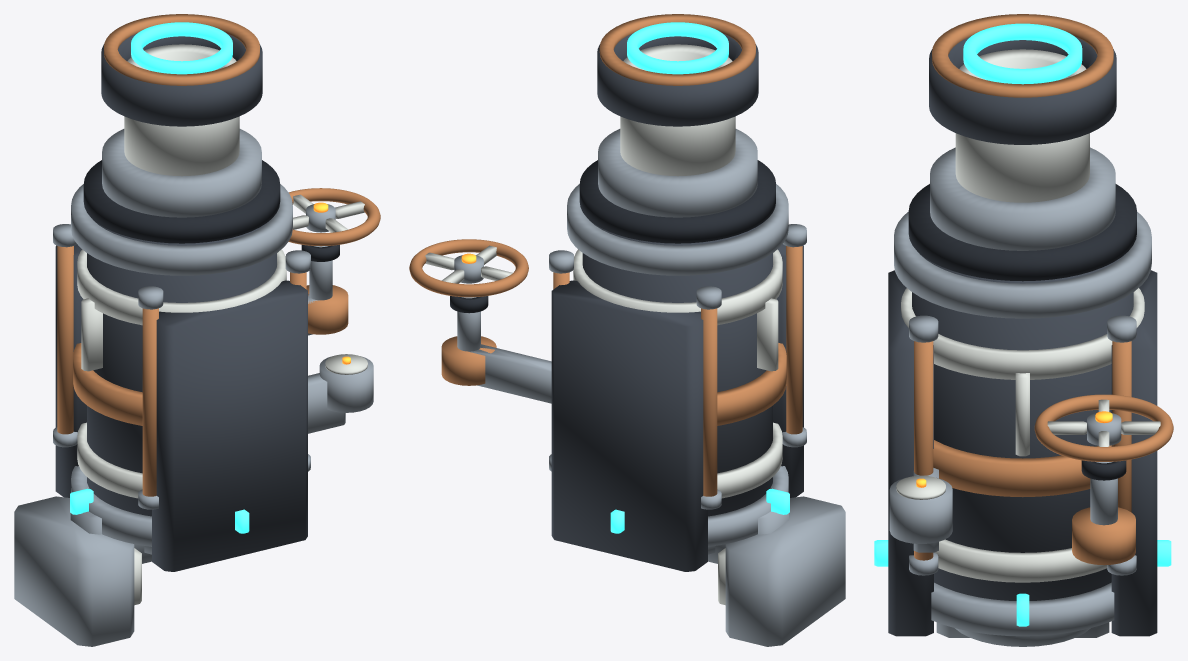
The model's file is M01-021_plasma_canister_nozzle.glb.
The picture shows the model from 3 angles, left to right: view 1: azimuth 30°, elevation 25°; view 2: azimuth 150°, elevation 25°; view 3: azimuth 270°, elevation 25°; orthographic projection. The views are drawn at different scales.
Visible parts, largest first — view 1: M01_021_Lower_Cradle, M01_021_Mount_Side_Key, M01_021_Pressure_Tank_Core, M01_021_Nozzle_Base, M01_021_Nozzle_Graphite_Skirt, M01_021_Tank_Front_Ferrule, M01_021_Nozzle_Ceramic_Throat, M01_021_Front_Insulator, M01_021_Nozzle_Copper_Lip, M01_021_Tank_Ceramic_Band_B, M01_021_Pressure_Bypass_02, M01_021_Nozzle_Plasma_Liner (+16 smaller); view 2: M01_021_Upper_Cradle, M01_021_Mount_Side_Key, M01_021_Pressure_Tank_Core, M01_021_Nozzle_Base, M01_021_Nozzle_Graphite_Skirt, M01_021_Tank_Front_Ferrule, M01_021_Nozzle_Ceramic_Throat, M01_021_Front_Insulator, M01_021_Nozzle_Copper_Lip, M01_021_Tank_Ceramic_Band_B, M01_021_Valve_Handwheel_Rim, M01_021_Pressure_Bypass_03 (+11 smaller); view 3: M01_021_Pressure_Tank_Core, M01_021_Nozzle_Base, M01_021_Nozzle_Graphite_Skirt, M01_021_Tank_Front_Ferrule, M01_021_Nozzle_Ceramic_Throat, M01_021_Upper_Cradle, M01_021_Front_Insulator, M01_021_Lower_Cradle, M01_021_Tank_Rear_Ferrule, M01_021_Tank_Ceramic_Band_B, M01_021_Copper_Pressure_Band, M01_021_Nozzle_Copper_Lip (+20 smaller).
Boxes of the visible parts, x1,y1,x2,y2 form: M01_021_Lower_Cradle: (152,280,307,571); M01_021_Mount_Side_Key: (14,496,134,646); M01_021_Pressure_Tank_Core: (87,219,276,516); M01_021_Nozzle_Base: (102,129,261,217); M01_021_Nozzle_Graphite_Skirt: (101,33,262,126); M01_021_Tank_Front_Ferrule: (71,184,292,275); M01_021_Nozzle_Ceramic_Throat: (124,44,239,176); M01_021_Front_Insulator: (83,160,280,243); M01_021_Nozzle_Copper_Lip: (104,14,259,85); M01_021_Tank_Ceramic_Band_B: (77,249,286,325); M01_021_Pressure_Bypass_02: (57,246,73,434); M01_021_Nozzle_Plasma_Liner: (131,22,232,74); M01_021_Upper_Cradle: (551,280,707,571); M01_021_Mount_Side_Key: (725,496,845,646); M01_021_Pressure_Tank_Core: (582,219,772,516); M01_021_Nozzle_Base: (598,129,757,217); M01_021_Nozzle_Graphite_Skirt: (597,33,758,126); M01_021_Tank_Front_Ferrule: (567,184,788,275); M01_021_Nozzle_Ceramic_Throat: (620,44,735,176); M01_021_Front_Insulator: (579,160,775,243); M01_021_Nozzle_Copper_Lip: (599,14,755,85); M01_021_Tank_Ceramic_Band_B: (573,249,782,325); M01_021_Valve_Handwheel_Rim: (409,239,528,297); M01_021_Pressure_Bypass_03: (786,246,802,434); M01_021_Pressure_Tank_Core: (912,252,1133,600); M01_021_Nozzle_Base: (930,147,1115,250); M01_021_Nozzle_Graphite_Skirt: (929,36,1116,144); M01_021_Tank_Front_Ferrule: (894,211,1151,318); M01_021_Nozzle_Ceramic_Throat: (955,49,1089,202); M01_021_Upper_Cradle: (1111,270,1157,636); M01_021_Front_Insulator: (908,184,1136,281); M01_021_Lower_Cradle: (888,270,933,636); M01_021_Tank_Rear_Ferrule: (931,582,1114,636); M01_021_Tank_Ceramic_Band_B: (901,288,1144,379); M01_021_Copper_Pressure_Band: (933,440,1111,497); M01_021_Nozzle_Copper_Lip: (932,14,1113,97).
Size of the model in its own units: 0.957 by 1.38 by 0.5895.
